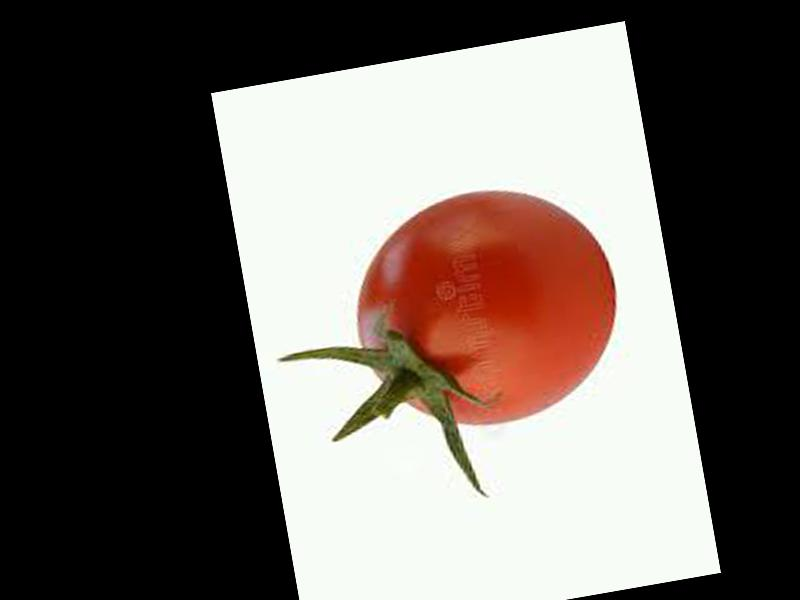Tomato: (339, 170, 634, 441)
